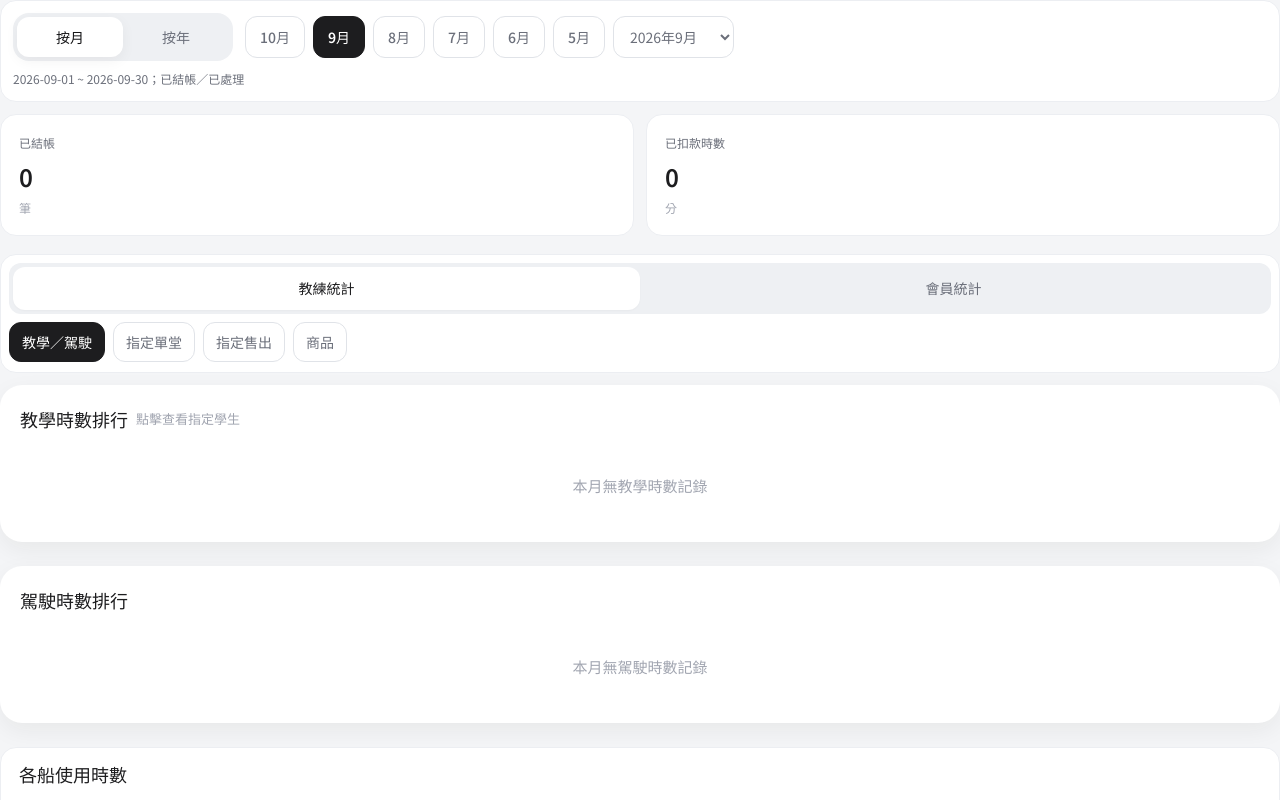
Scenario: Dashboard click tracking › loads a coach performance ranking only after its button is selected
Step 1. Click the button "指定售出" → [244, 342], box [203, 322, 285, 362]
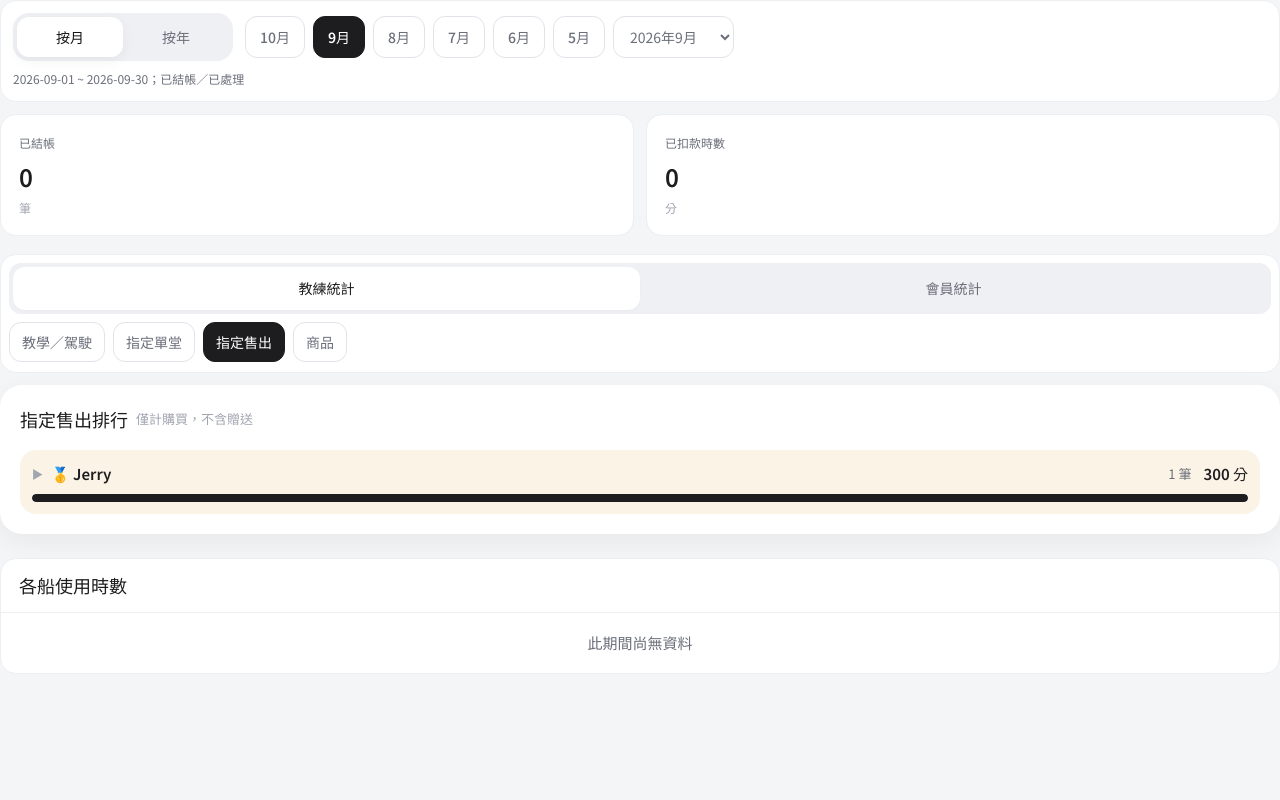
Expected: the text "300 分" is shown, [1204, 462, 1248, 486]
Step 2. Click the text "▶ 🥇 Jerry 1 筆 300 分" → [640, 482], box [20, 450, 1260, 514]
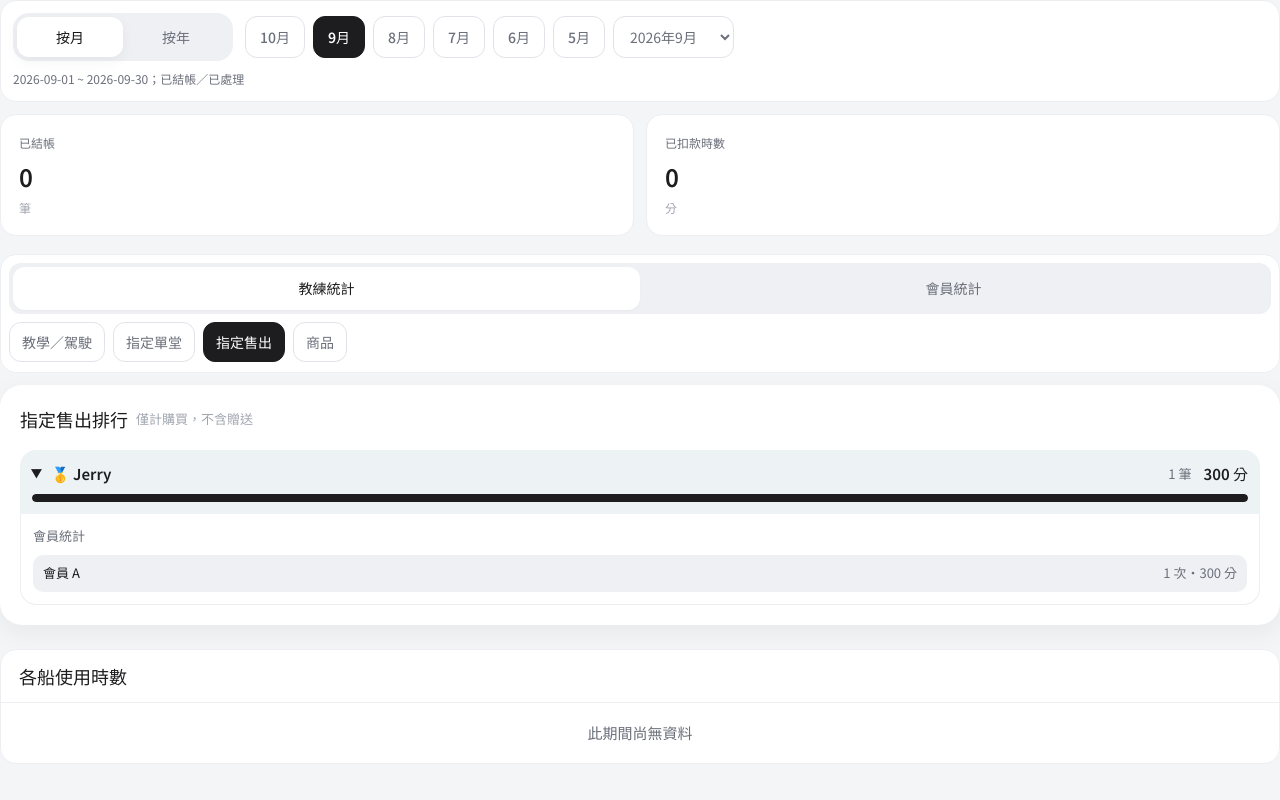
Expected: the number of buttons "會員統計" is 2, [640, 267, 1267, 310]; [33, 526, 85, 545]
Expected: the text "會員 A" is shown, [43, 563, 80, 584]
Expected: the text "1 次・300 分" is shown, [1163, 563, 1237, 584]
Step 3. Click the button "商品" → [320, 342], box [293, 322, 347, 362]
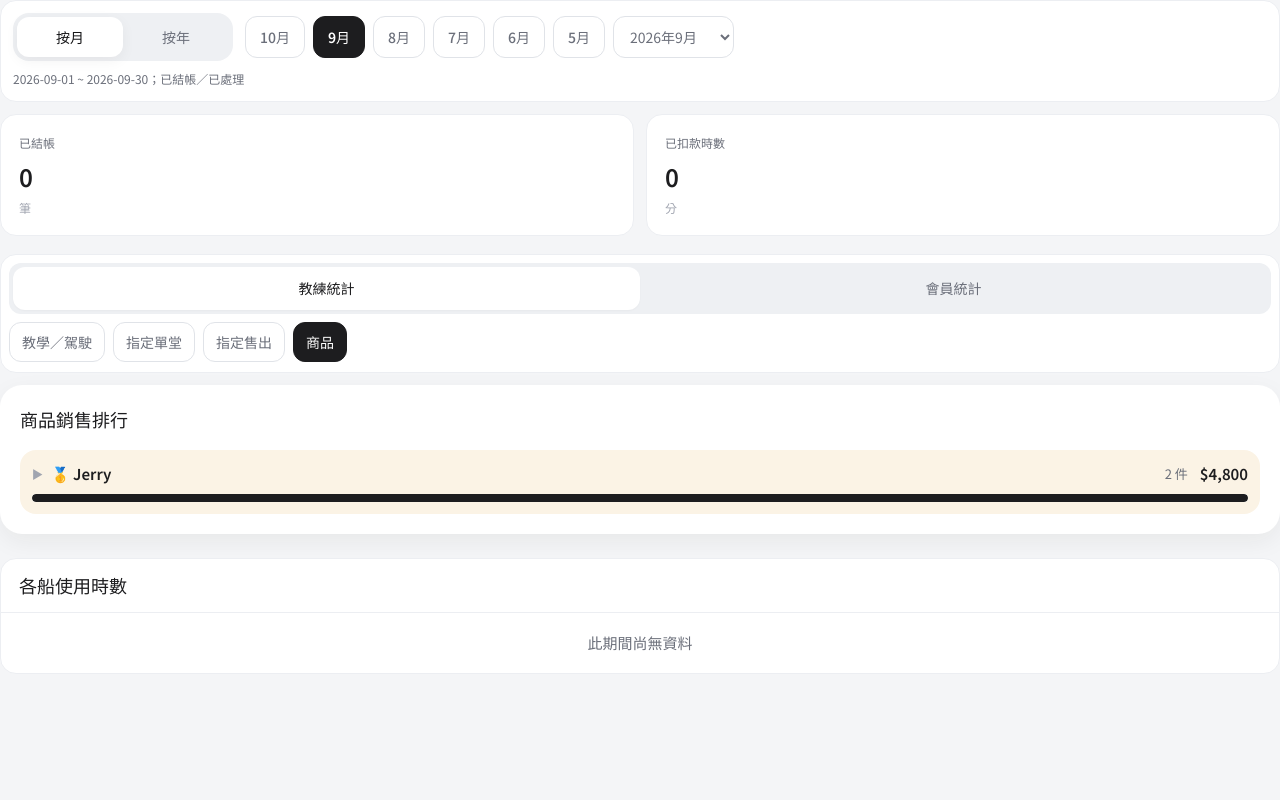
Expected: the text "$4,800" is shown, [1200, 462, 1248, 486]
Expected: the text "2 件" is shown, [1165, 464, 1188, 484]
